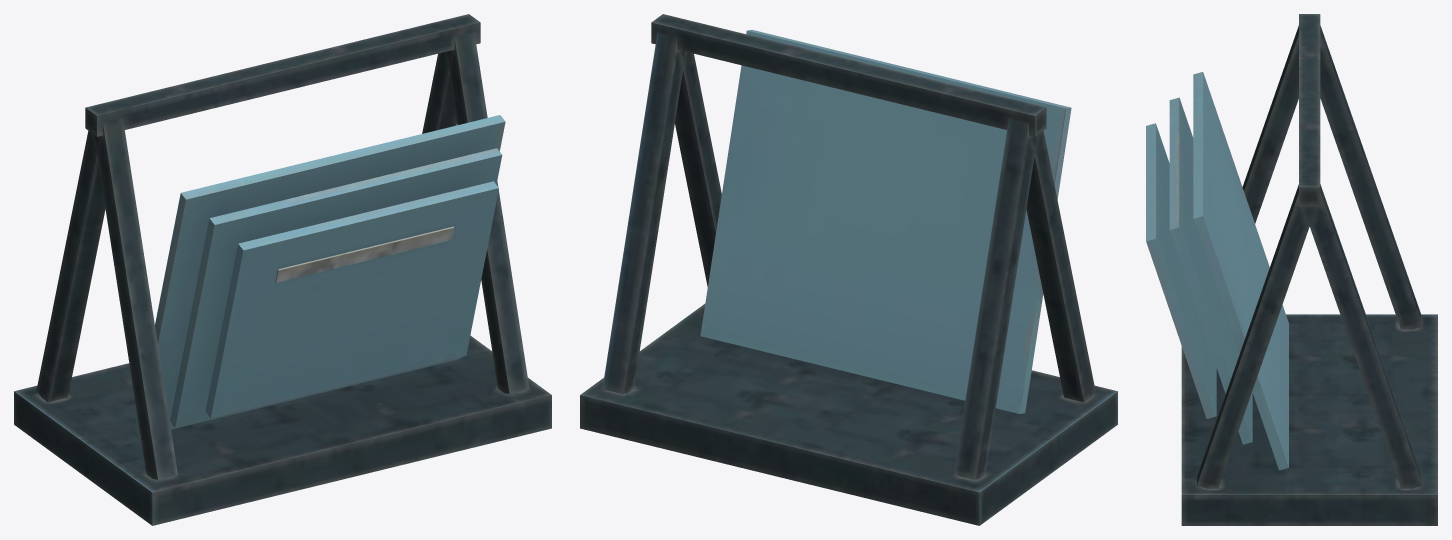
The model's file is glass.glb.
3 renders of one model, left to right at view 1: azimuth 30°, elevation 25°; view 2: azimuth 150°, elevation 25°; view 3: azimuth 270°, elevation 25°, orthographic. The views are drawn at different scales.
Parts seen in each view (by area): view 1: te_res_glass; view 2: te_res_glass; view 3: te_res_glass.
Part boxes in pixels (x1=…): te_res_glass: x1=14, y1=14, x2=551, y2=525; te_res_glass: x1=580, y1=14, x2=1117, y2=525; te_res_glass: x1=1146, y1=14, x2=1437, y2=525.
Size of the model in its own units: 0.5 by 0.4325 by 0.3414.
1 material, 1 textured.
